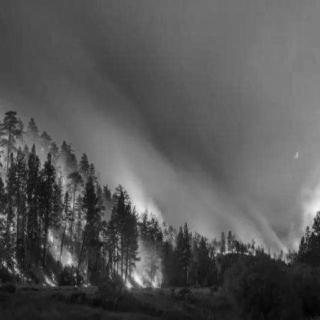Fire: (126, 180, 162, 232)
